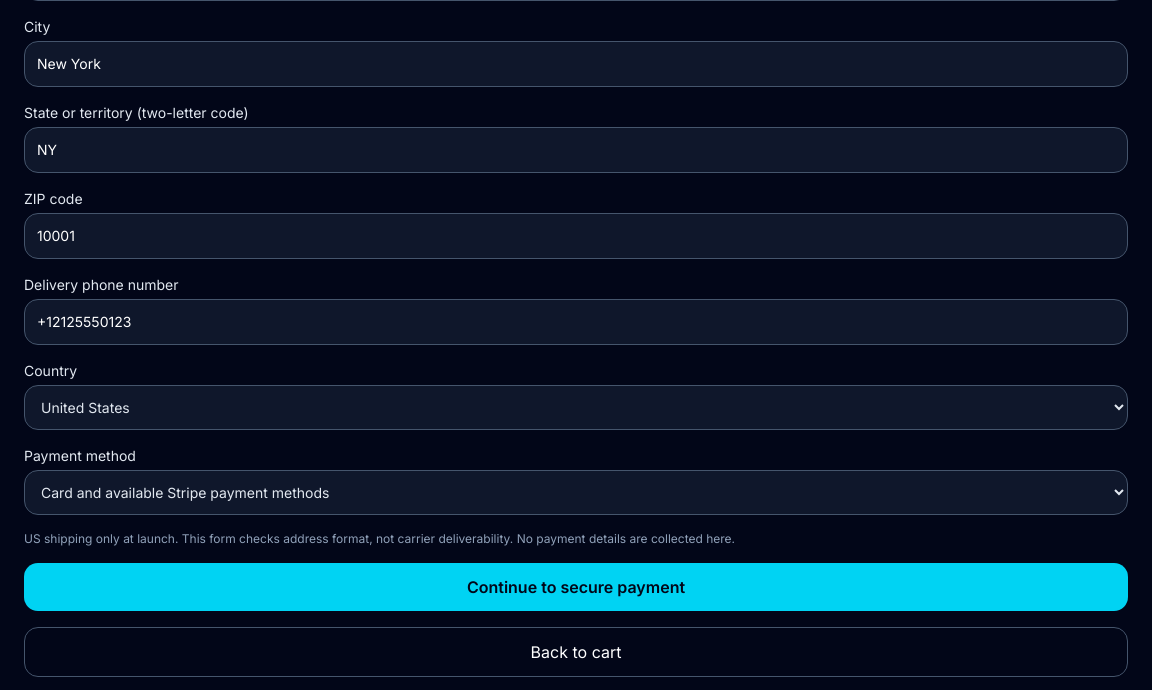
keeps uncertain checkout errors honest and offers order review
This screenshot has width=1152, height=690.
(page scrolled)
Click the button "Continue to secure payment" at point(576, 587), box [24, 563, 1128, 611]
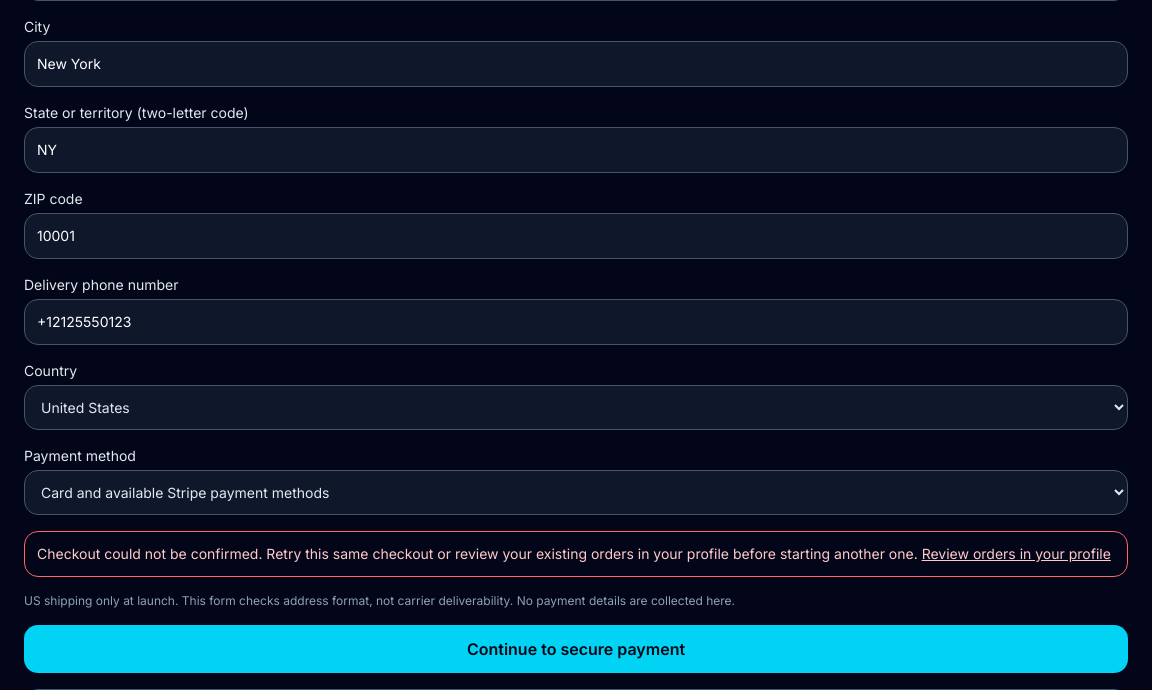
Check: the message does not show "No charge has been made", box [24, 531, 1128, 577]
Check: the message shows "Checkout could not be confirmed", box [37, 545, 918, 562]
